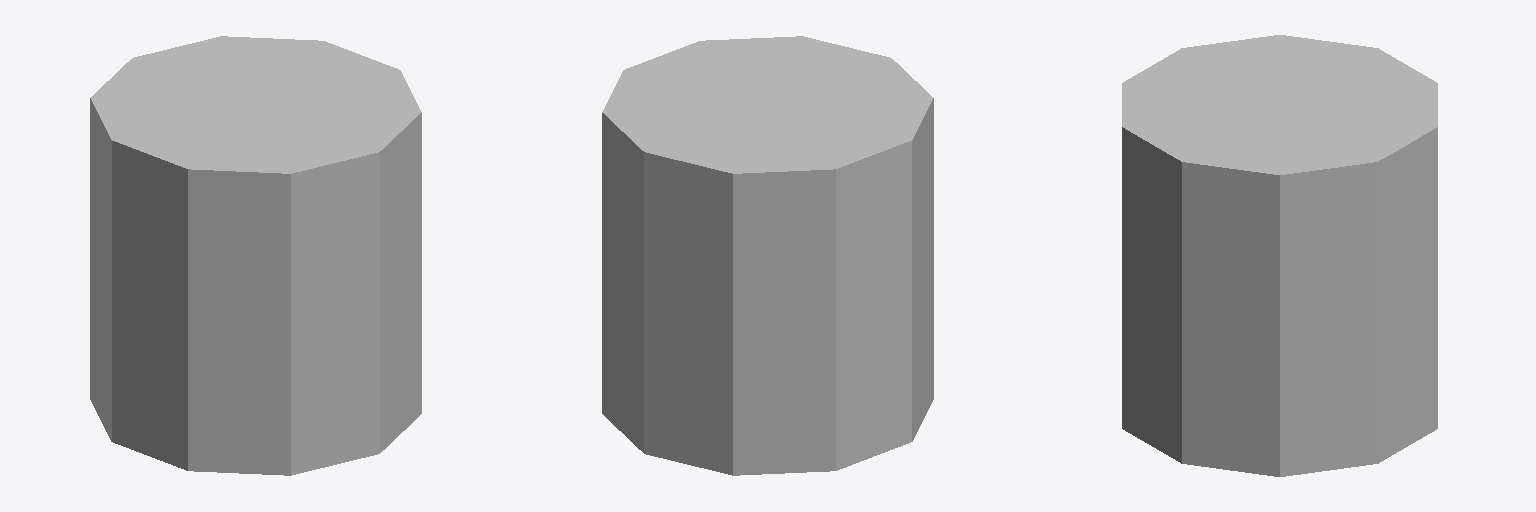
The model's file is ayamcan.obj.
The picture shows the model from 3 angles: view 1: azimuth 30°, elevation 25°; view 2: azimuth 150°, elevation 25°; view 3: azimuth 270°, elevation 25°; orthographic projection.
Parts seen in each view (by area): view 1: pCylinder1; view 2: pCylinder1; view 3: pCylinder1.
Part boxes in pixels (left/top/right/bottom): pCylinder1: left=90, top=36, right=421, bottom=475; pCylinder1: left=602, top=36, right=933, bottom=475; pCylinder1: left=1122, top=35, right=1437, bottom=476.
Size of the model in its own units: 0.5914 by 0.5914 by 0.5625.